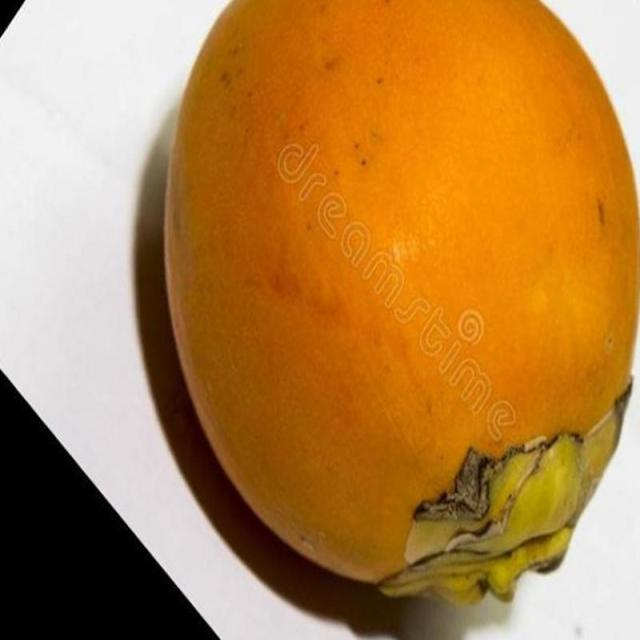good: (160, 0, 639, 611)
